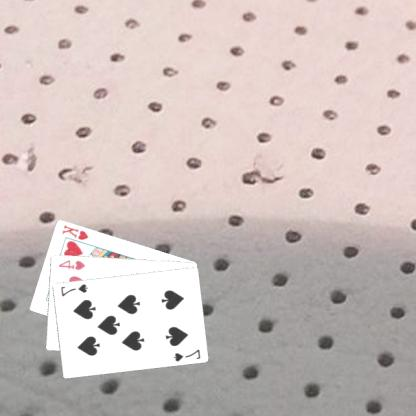4H: (58, 256, 88, 272)
7S: (172, 346, 204, 363), (60, 280, 90, 298)
KH: (61, 222, 92, 241)
